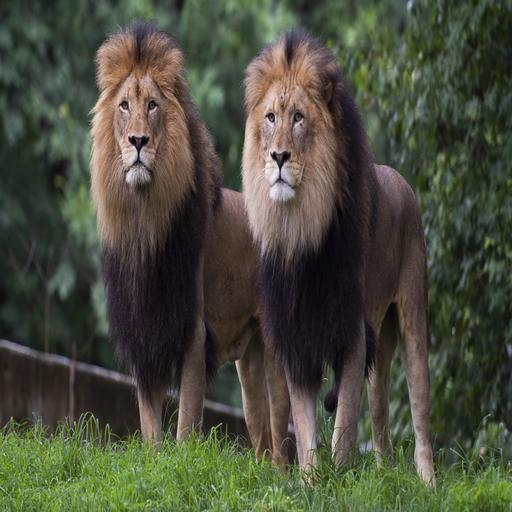Lion: (73, 20, 335, 488), (232, 19, 456, 503)
